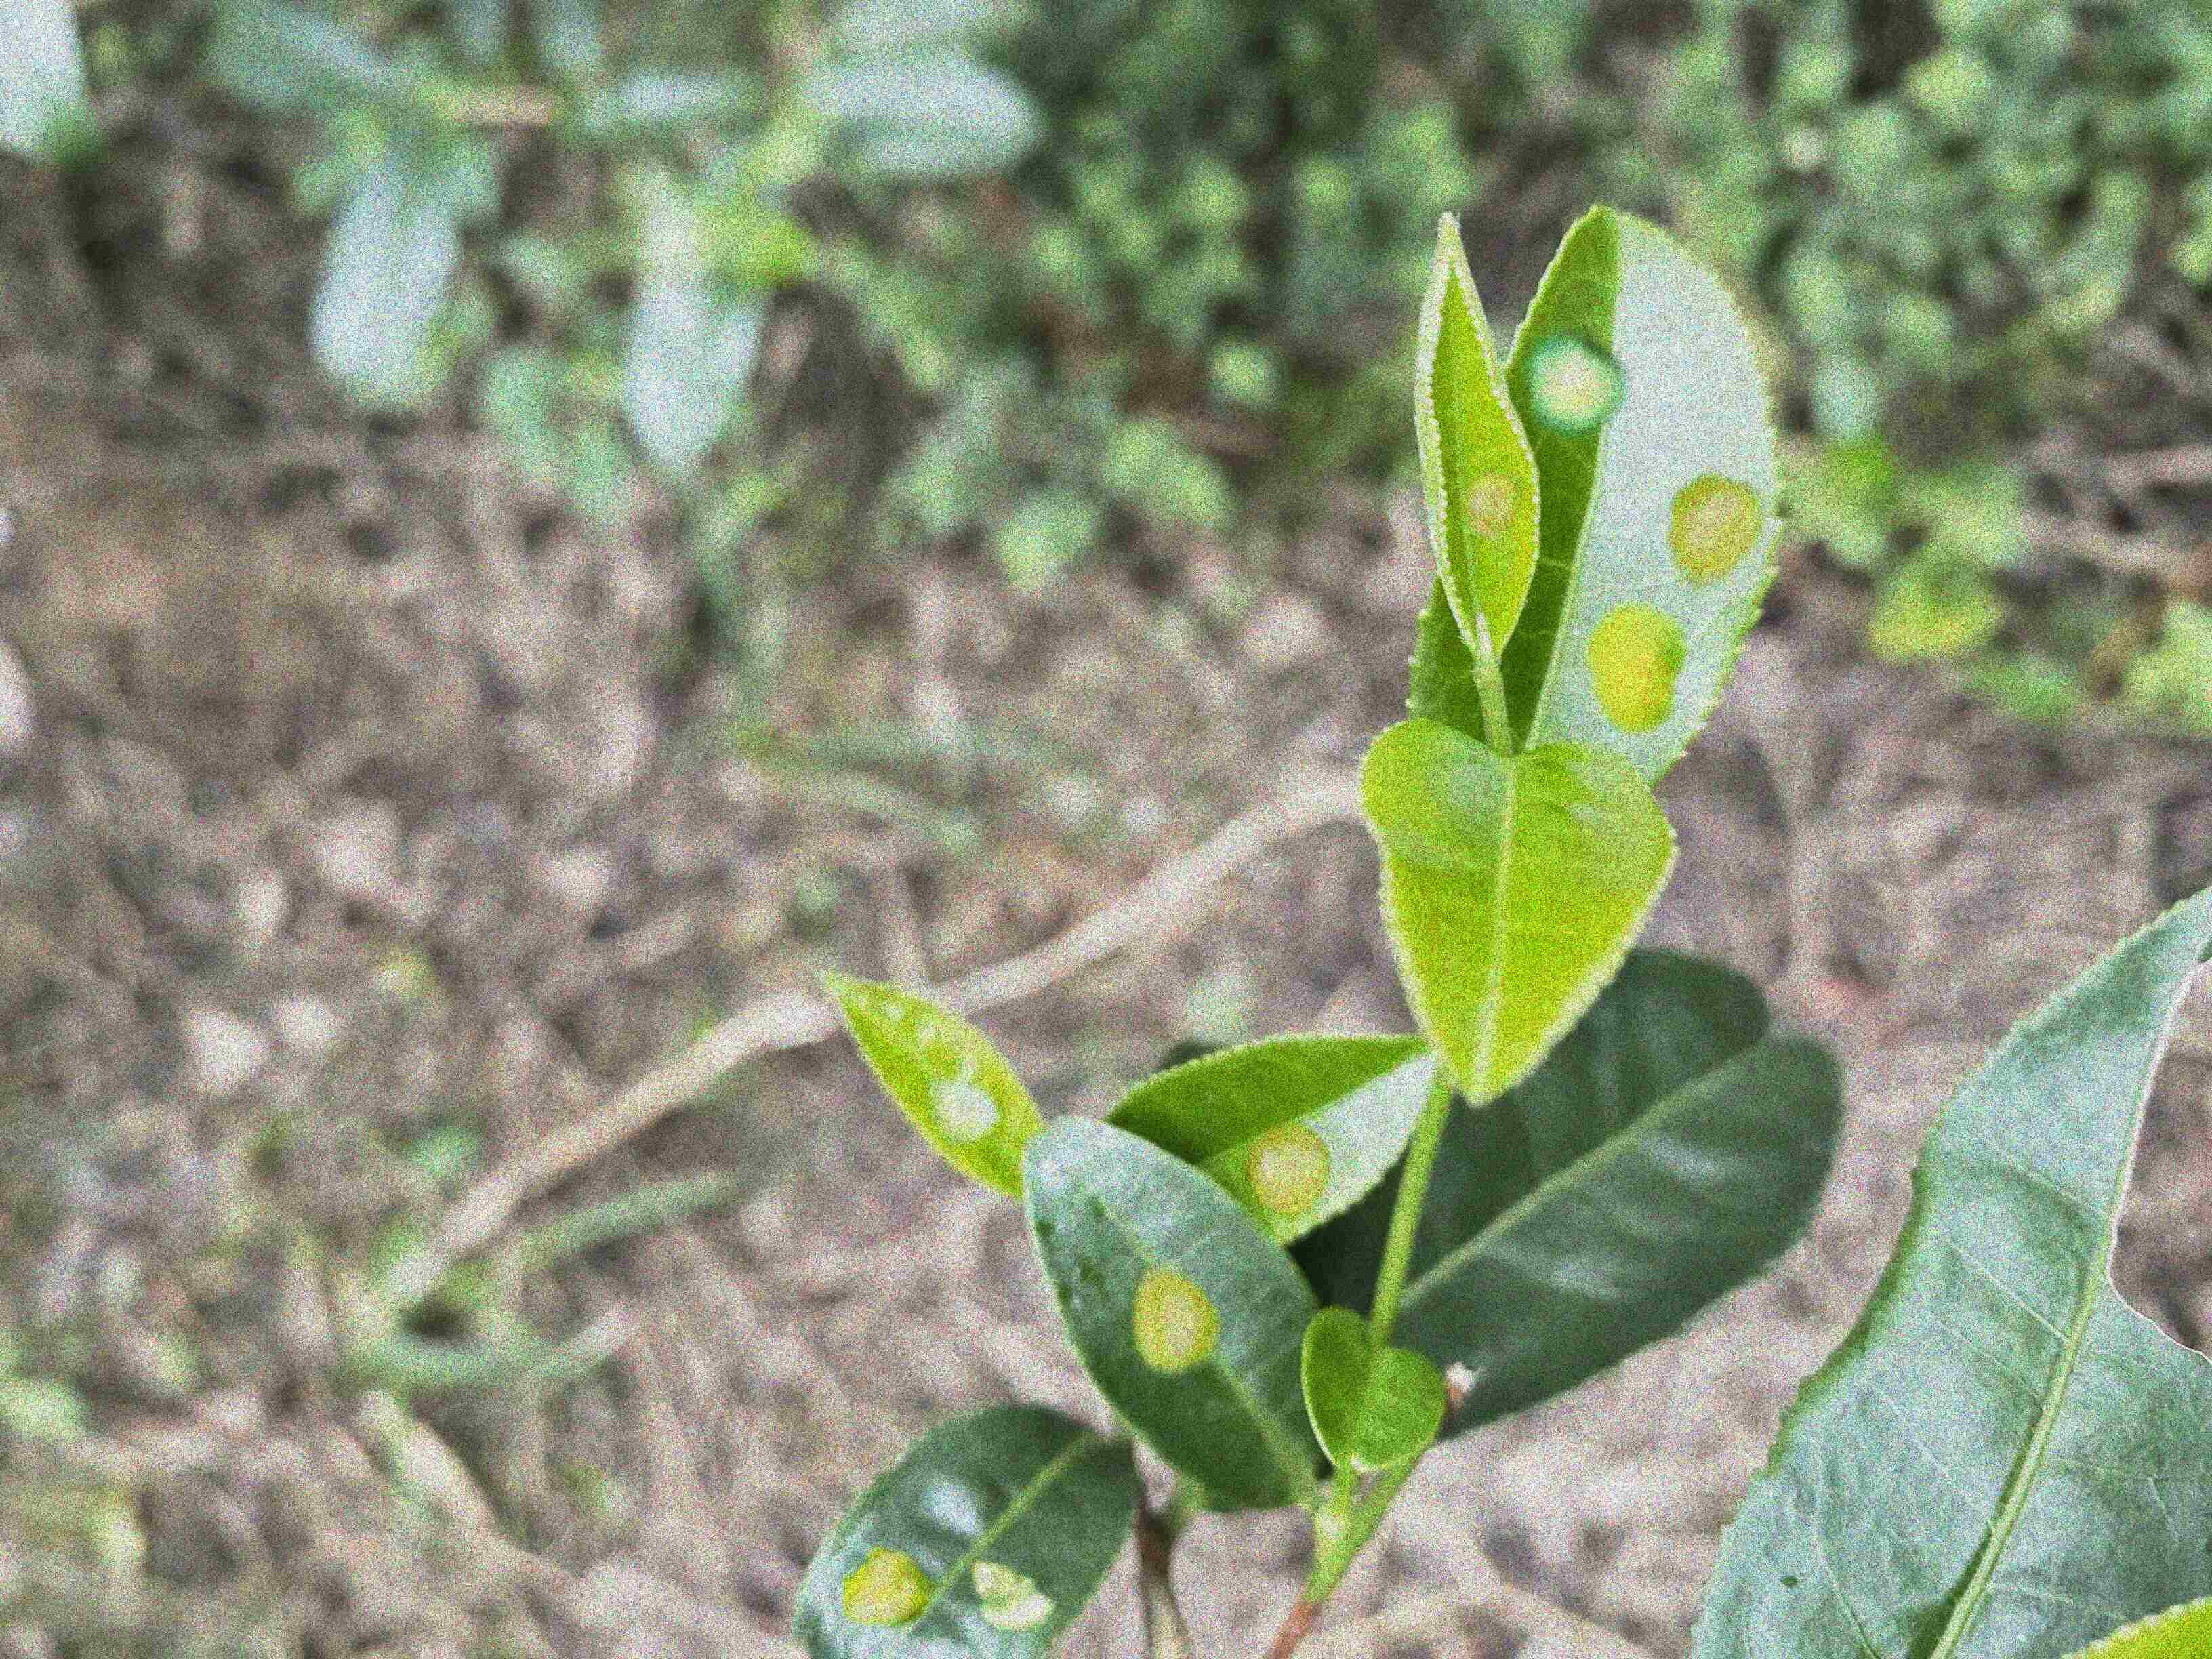chabing_high: (1409, 202, 1791, 786), (791, 1403, 1143, 1659)
chabing_low: (1021, 1115, 1324, 1516), (1106, 1033, 1437, 1248), (1413, 214, 1540, 659), (819, 972, 1050, 1195)
chihuo_low: (1686, 885, 2212, 1656)
healthy: (1357, 716, 1681, 1108), (1299, 1304, 1449, 1473)
